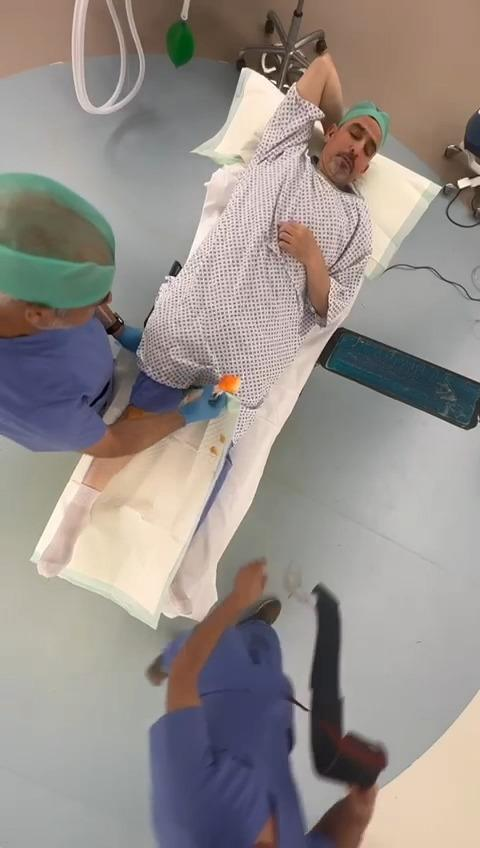patient: (40, 55, 389, 572)
prepstick: (214, 374, 240, 395)
